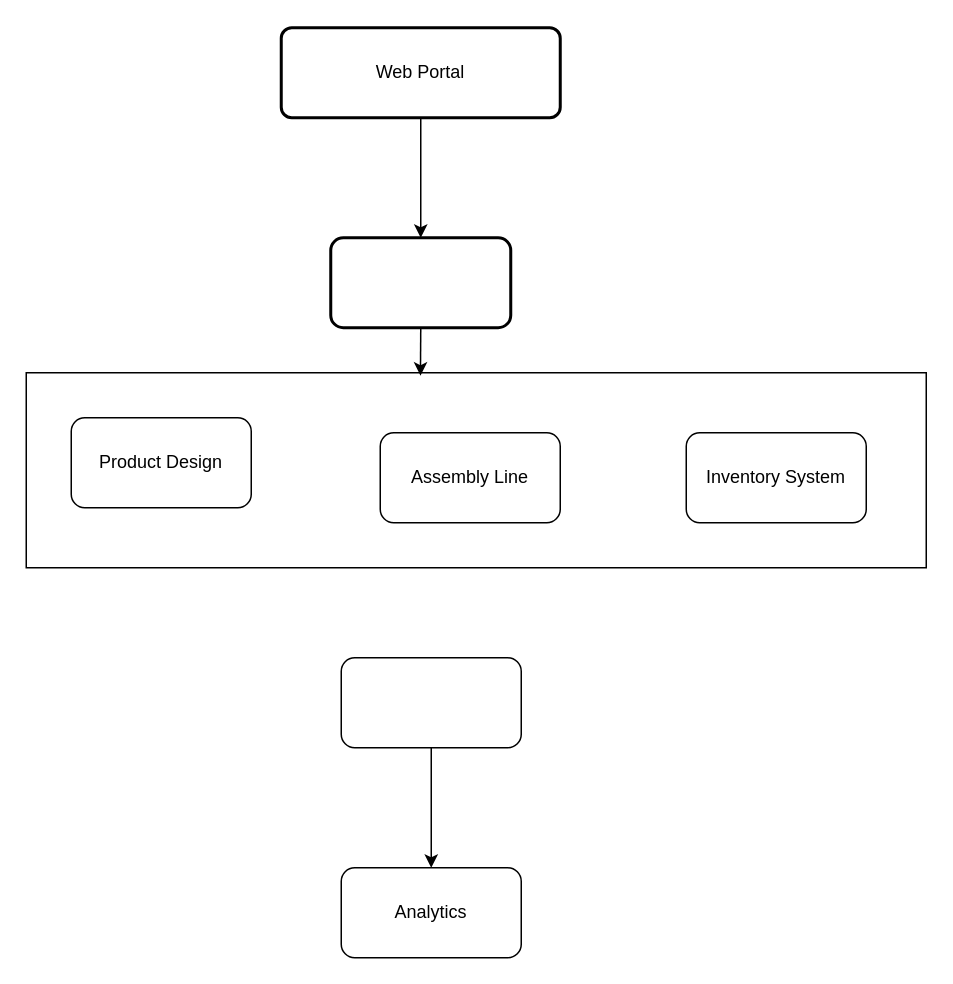
This 953x984 diagram has some shape labels left out. Each missing label, with the box of its shape:
Notifications: (340, 656, 521, 748)
User Management: (328, 236, 512, 328)
